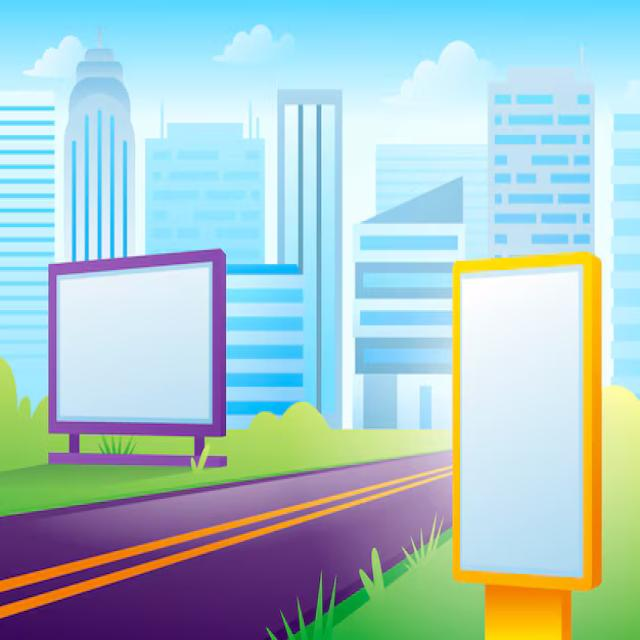Billboard_LHS: (42, 242, 232, 438)
Billboard_RHS: (444, 249, 611, 599)
Roadcorner: (7, 450, 350, 522), (260, 517, 437, 638)
Roadlane: (2, 460, 443, 629)
